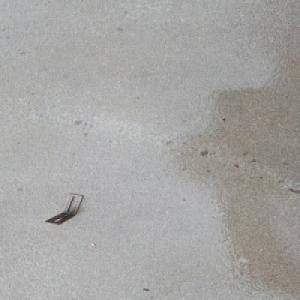MetalPart: (43, 193, 84, 225)
